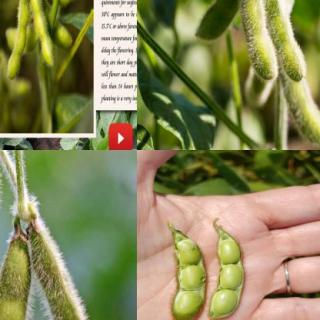soya: (32, 230, 116, 319), (257, 0, 306, 82), (166, 222, 206, 320), (235, 0, 278, 80), (210, 230, 245, 318), (282, 82, 320, 150), (6, 0, 31, 81), (194, 0, 237, 42), (27, 0, 54, 66), (44, 2, 74, 50), (6, 29, 38, 53)
